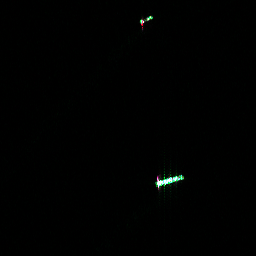ship: (153, 170, 186, 190), (137, 13, 155, 26)
